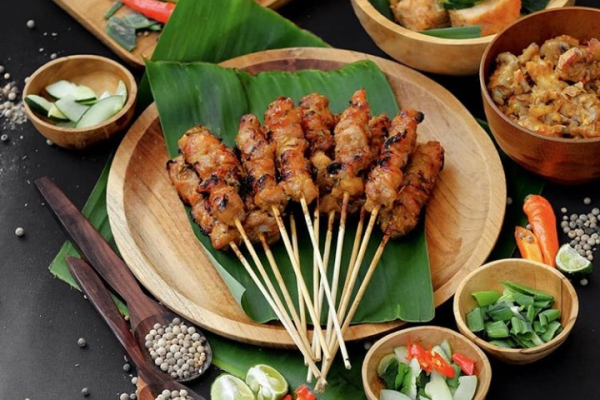sate: (154, 84, 489, 255)
